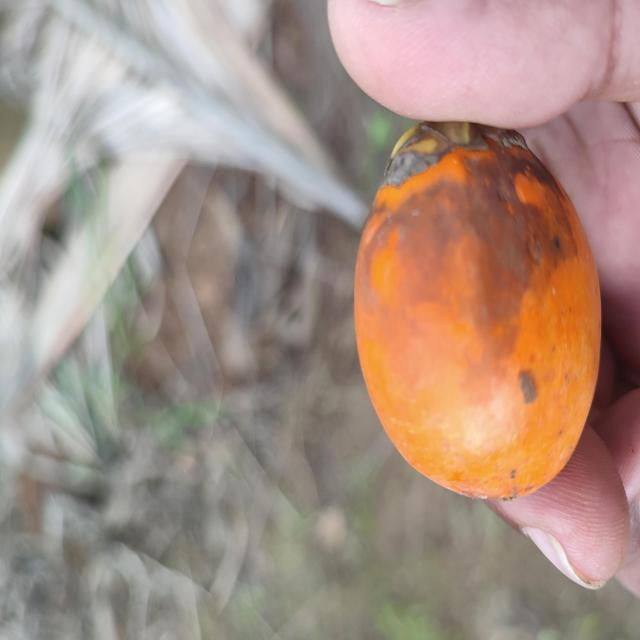good: (352, 122, 603, 504)
